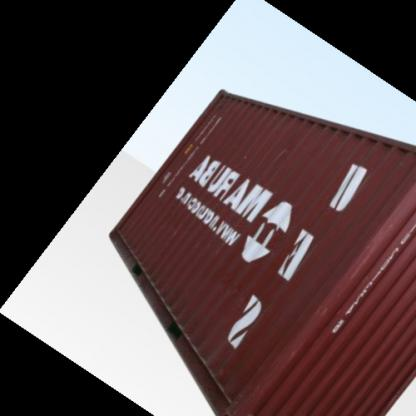Damage: (213, 278, 253, 316), (267, 139, 296, 168)
